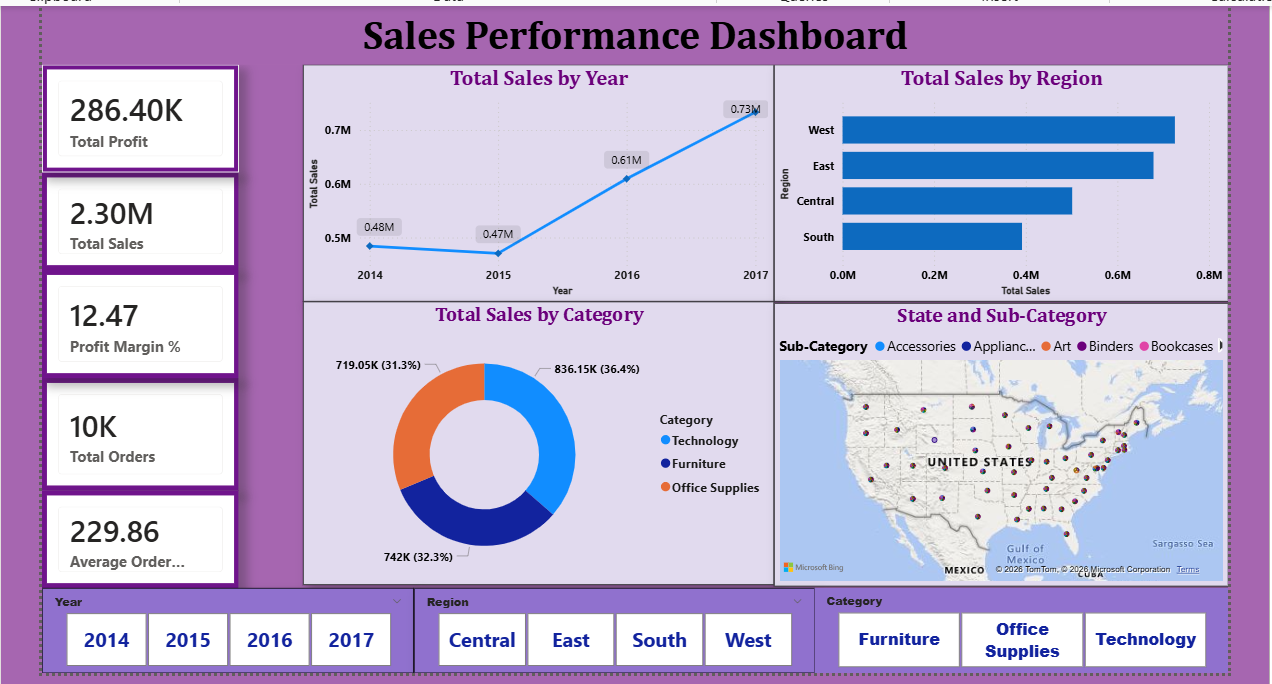

Layout of this report page (visuals, bound fields, positions):
{"tool":"powerbi","page":{"name":"Type_sales_overview","canvas":[1280,720],"ordinal":0},"visuals":[{"type":"cardVisual","fields":{"Data":["Orders.Total Sales"]},"box":[0,179.7,212.1,105.2],"z":0},{"type":"cardVisual","fields":{"Data":["Orders.Total Profit"]},"box":[0,63.1,212.1,116.6],"z":1000},{"type":"cardVisual","fields":{"Data":["Orders.Total Orders"]},"box":[0,401.6,212.1,121.4],"z":2000},{"type":"cardVisual","fields":{"Data":["Orders.Profit Margin %"]},"box":[0,285,212.1,116.6],"z":3000},{"type":"cardVisual","fields":{"Data":["Orders.Average Order Value"]},"box":[0,523,212.1,105.2],"z":4000},{"type":"lineChart","fields":{"Y":["Orders.Total Sales"],"Category":["Orders.Order Date.Variation.Date Hierarchy.Year","Orders.Order Date.Variation.Date Hierarchy.Quarter","Orders.Order Date.Variation.Date Hierarchy.Month","Orders.Order Date.Variation.Date Hierarchy.Day"]},"box":[281.7,63.1,508.4,255.8],"z":5000},{"type":"clusteredBarChart","fields":{"Category":["Orders.Region"],"Y":["Orders.Total Sales"]},"box":[790.2,63.1,490.6,255.8],"z":6000},{"type":"donutChart","fields":{"Y":["Orders.Total Sales"],"Category":["Orders.Category"]},"box":[281.7,319,508.4,306],"z":7000},{"type":"map","fields":{"Category":["Orders.State"],"Series":["Orders.Sub-Category"]},"box":[790.2,320.6,490.6,306],"z":8000},{"type":"textbox","box":[0,0,1280.8,63.1],"z":9000},{"type":"slicer","fields":{"Values":["Orders.Order Date.Variation.Date Hierarchy.Year"]},"box":[0,628.3,401.6,92.3],"z":10000},{"type":"slicer","fields":{"Values":["Orders.Region"]},"box":[401.6,628.3,432.3,92.3],"z":11000},{"type":"slicer","fields":{"Values":["Orders.Category"]},"box":[833.9,628.3,446.9,92.3],"z":12000}]}

Visuals, with their boxes in screenshot pixels (x1, y1, x2, y2):
cardVisual - Orders.Total Sales: 33:168:231:266
cardVisual - Orders.Total Profit: 33:59:231:168
cardVisual - Orders.Total Orders: 33:375:231:489
cardVisual - Orders.Profit Margin %: 33:266:231:375
cardVisual - Orders.Average Order Value: 33:489:231:587
lineChart - Orders.Total Sales x Orders.Order Date.Variation.Date Hierarchy.Year: 296:59:772:298
clusteredBarChart - Orders.Region x Orders.Total Sales: 772:59:1230:298
donutChart - Orders.Total Sales x Orders.Category: 296:298:772:584
map - Orders.State x Orders.Sub-Category: 772:300:1230:586
textbox: 33:0:1230:59
slicer - Orders.Order Date.Variation.Date Hierarchy.Year: 33:587:408:674
slicer - Orders.Region: 408:587:813:674
slicer - Orders.Category: 813:587:1230:674
